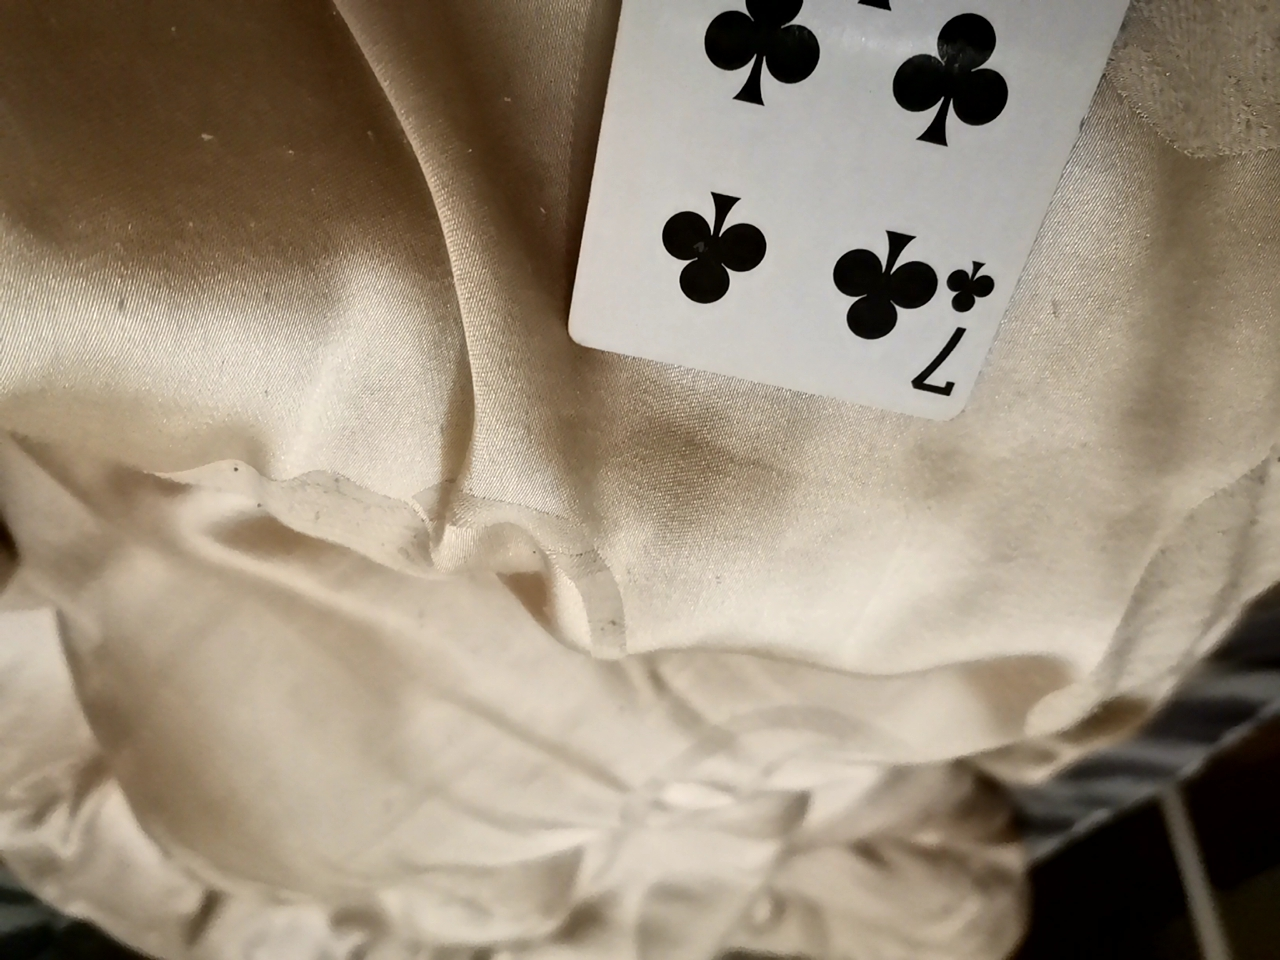mh 7: (564, 0, 1125, 429)
